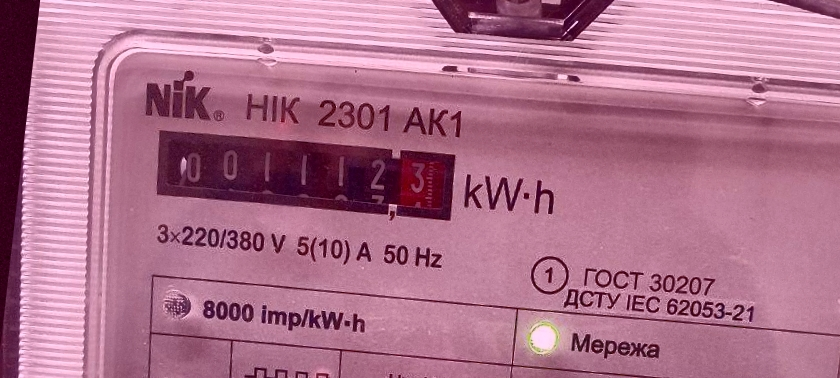0: (217, 145, 243, 185), (180, 148, 206, 185)
1: (256, 146, 278, 186), (294, 150, 312, 189), (332, 152, 350, 190)
2: (365, 156, 391, 194)
3: (406, 159, 427, 196)
screen: (144, 117, 465, 233)
